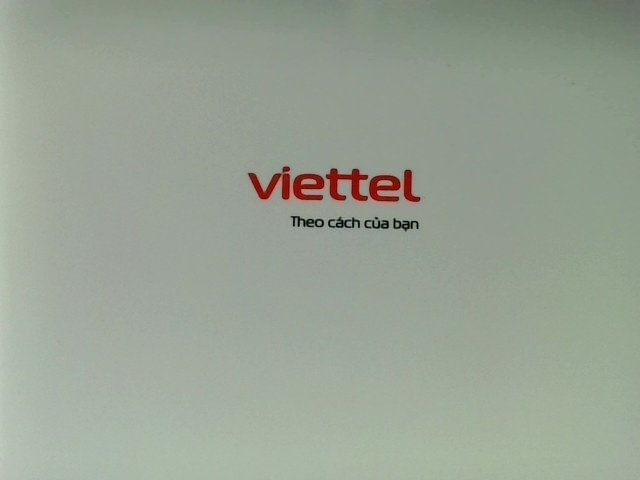AY_Viettel: (243, 159, 428, 240)
